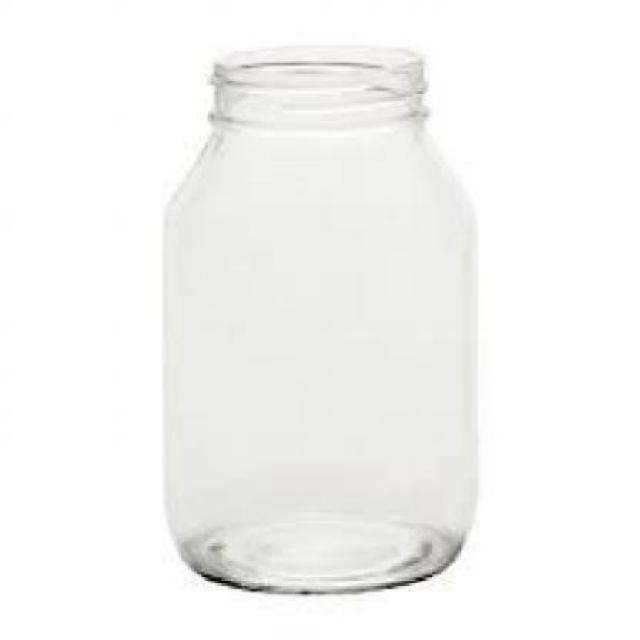GLASS: (156, 42, 475, 592)
